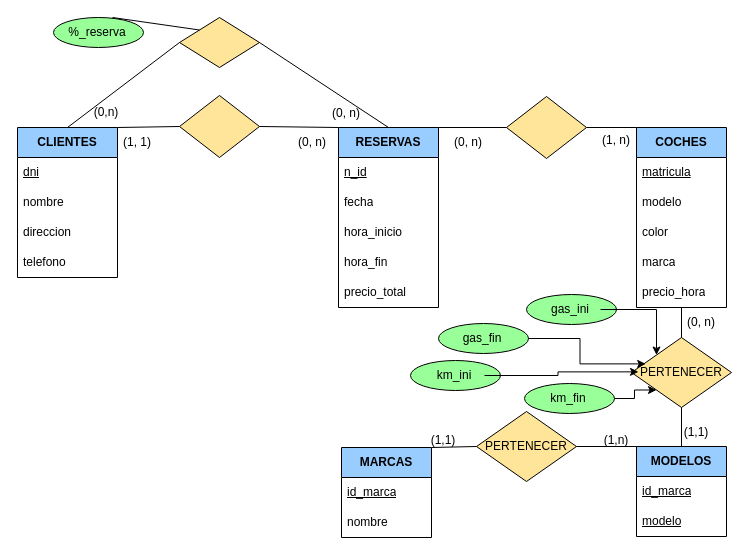
Some shapes in this 749 by 555 pixel diagram are drawn without their labels. Each missing label, with the centre of its shape:
"AVALAR" belongs at pixel 219 42.
"INCLUIR" belongs at pixel 546 127.
"REALIZAR" belongs at pixel 219 126.
